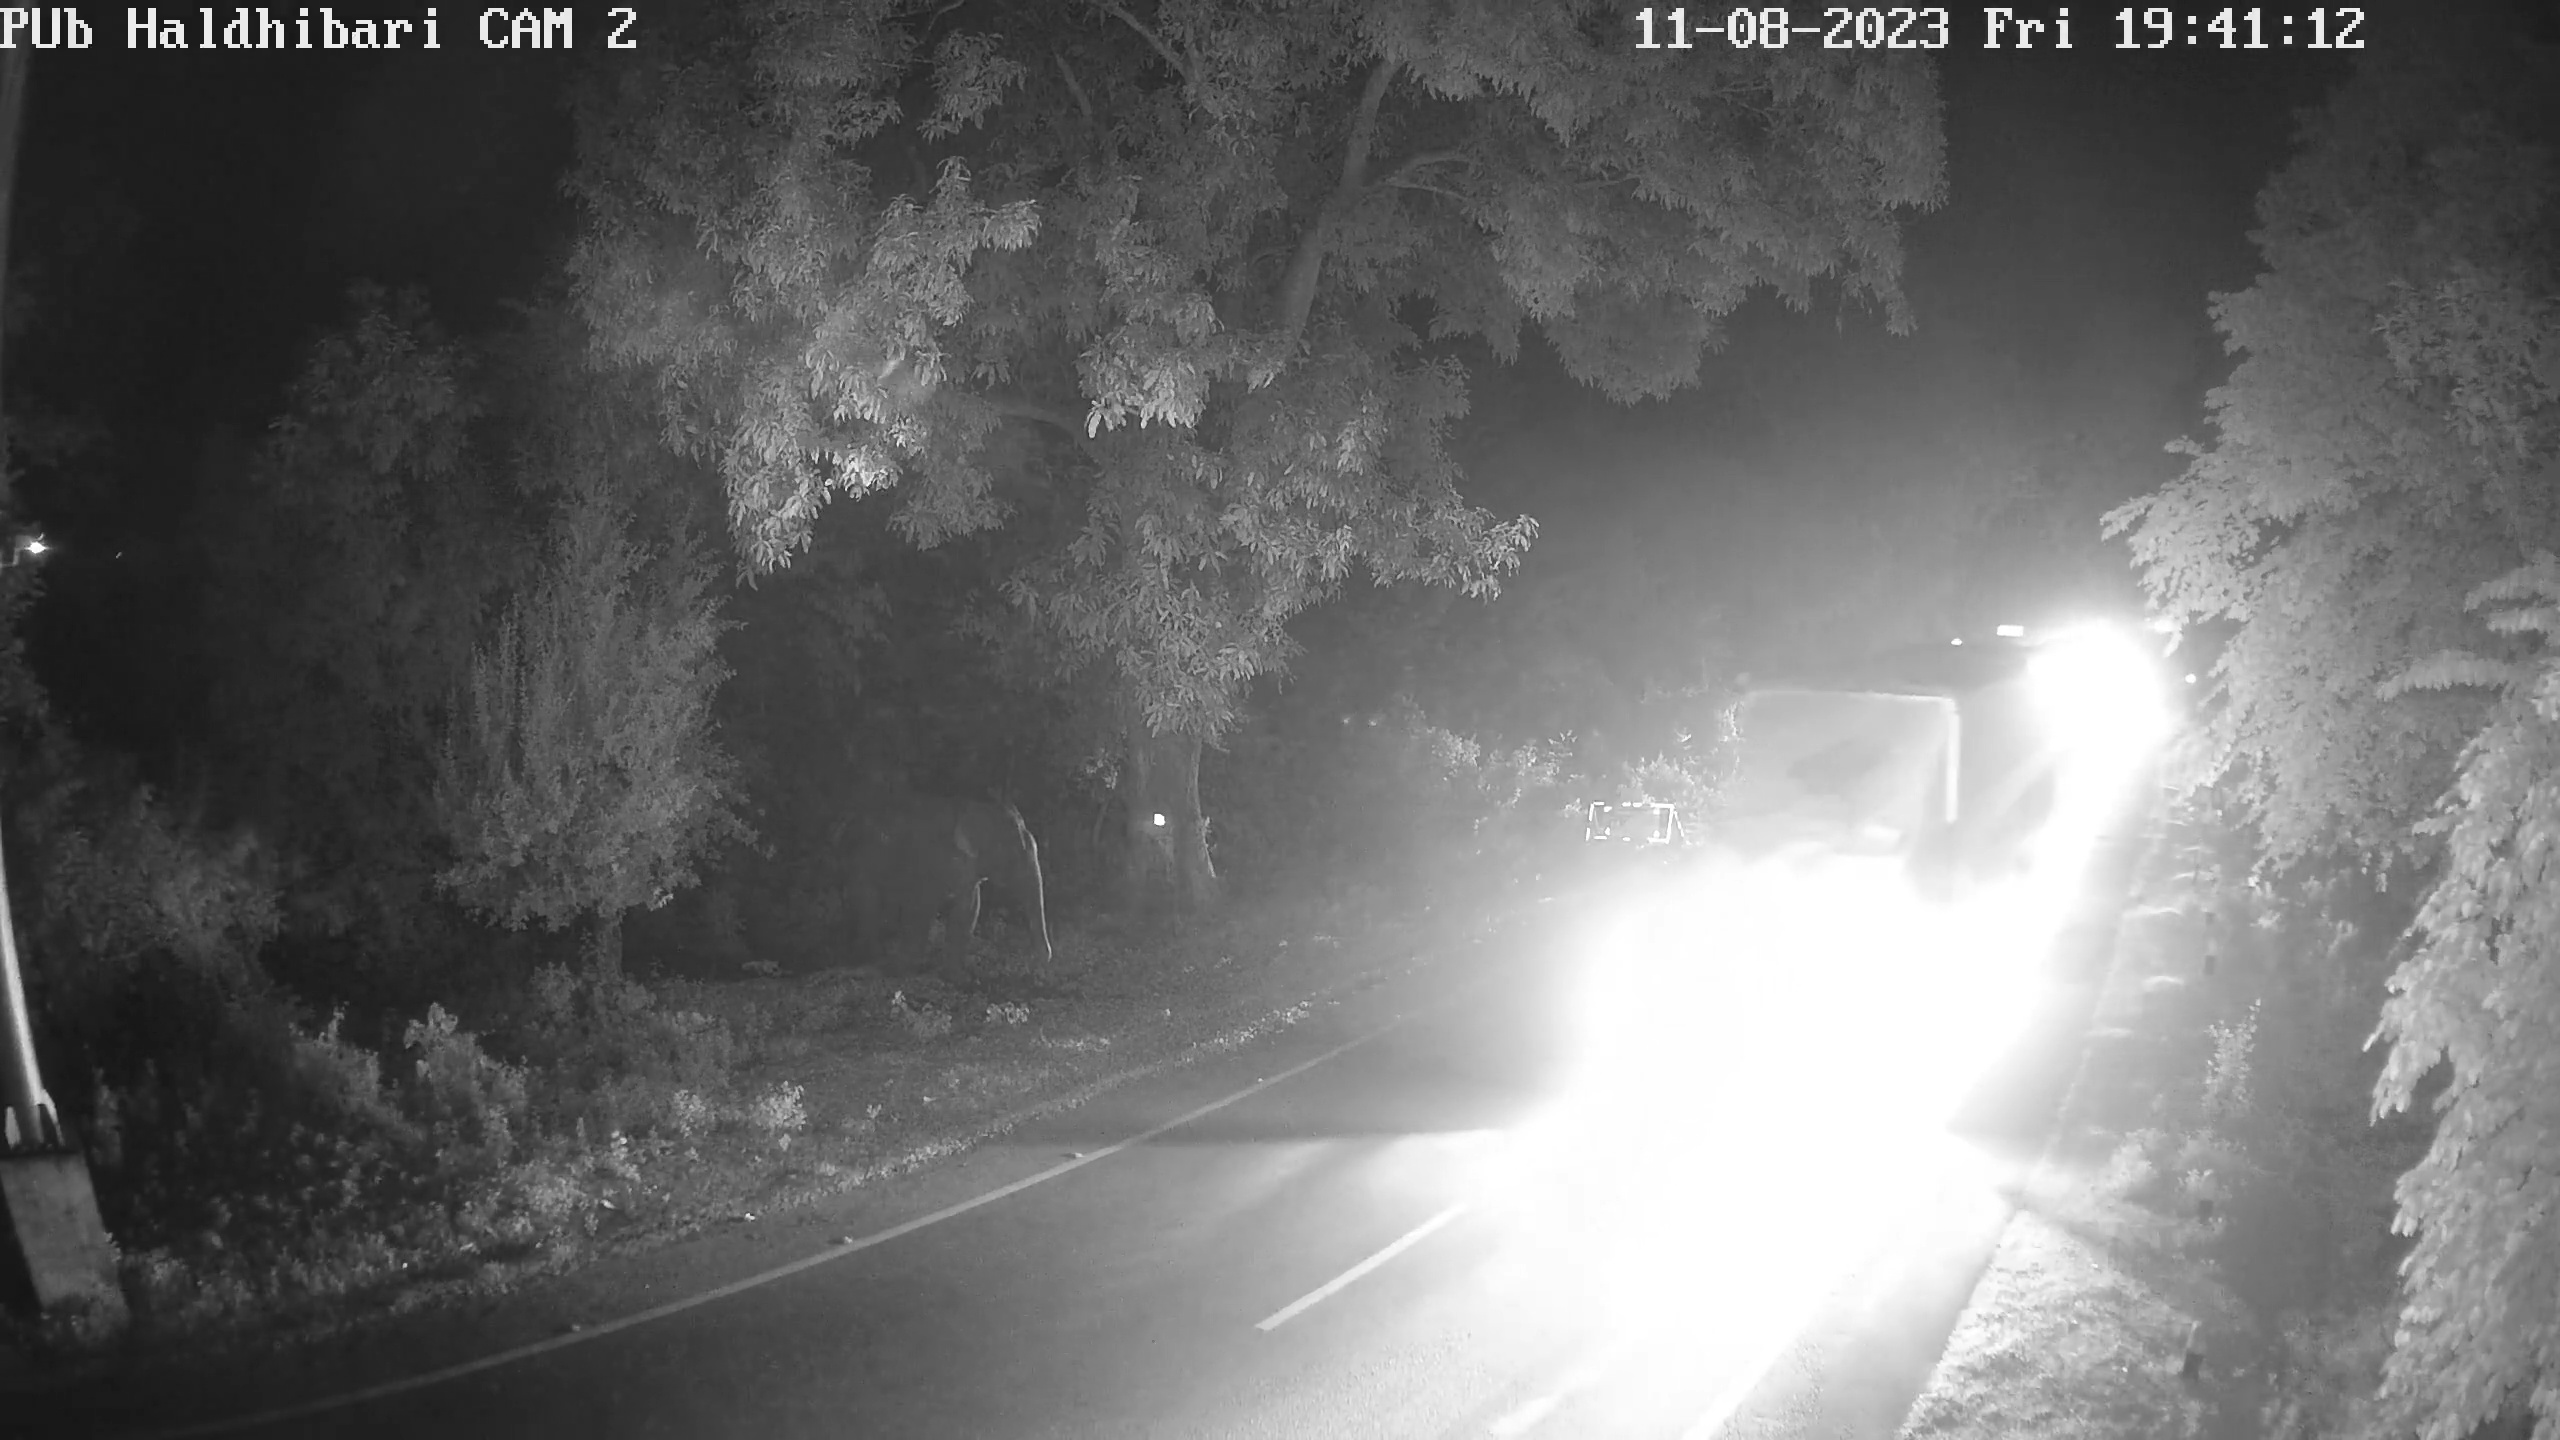elephants: (842, 811, 1062, 972)
